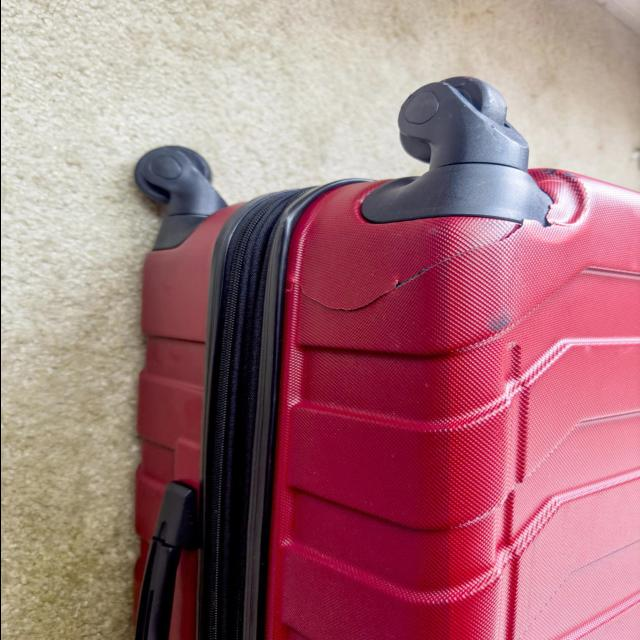Damage-bag: (285, 225, 522, 313), (530, 169, 587, 226)
